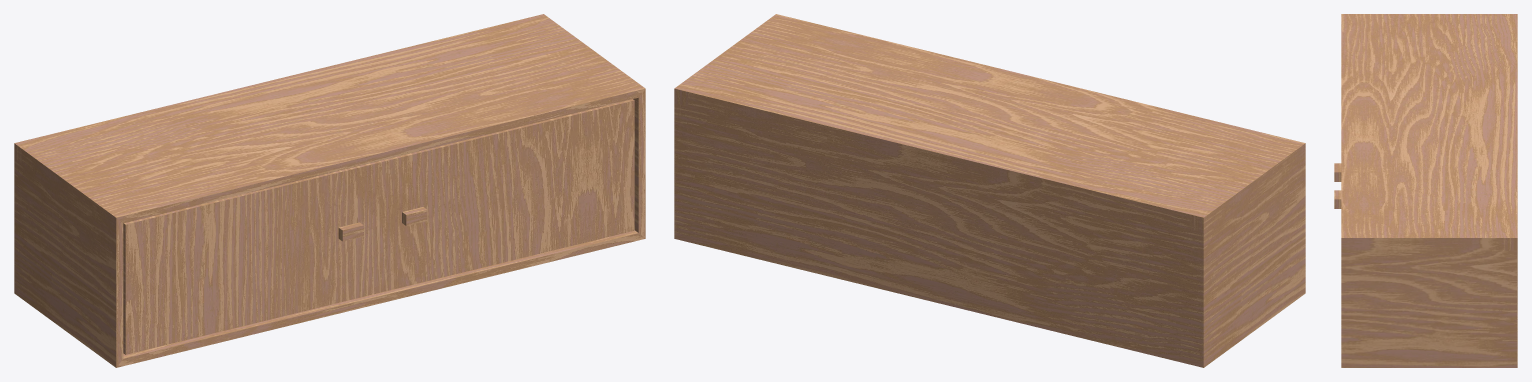
File: Hylly_009-transformed.glb
The picture shows the model from 3 angles, left to right: view 1: azimuth 30°, elevation 25°; view 2: azimuth 150°, elevation 25°; view 3: azimuth 270°, elevation 25°; orthographic projection. The views are drawn at different scales.
Parts seen in each view (by area): view 1: runkoObj, Left_door, Right_door; view 2: runkoObj; view 3: runkoObj, attach_right.
Boxes of the visible parts, <box> form: runkoObj: <box>14,14,645,367</box>; Left_door: <box>123,161,379,354</box>; Right_door: <box>378,99,634,292</box>; runkoObj: <box>674,14,1305,367</box>; runkoObj: <box>1334,14,1517,367</box>; attach_right: <box>1503,238,1517,250</box>.
Bounding box in the file's own units: 0.75 × 0.2033 × 0.26.
Materials: 1 (1 with a texture image).
